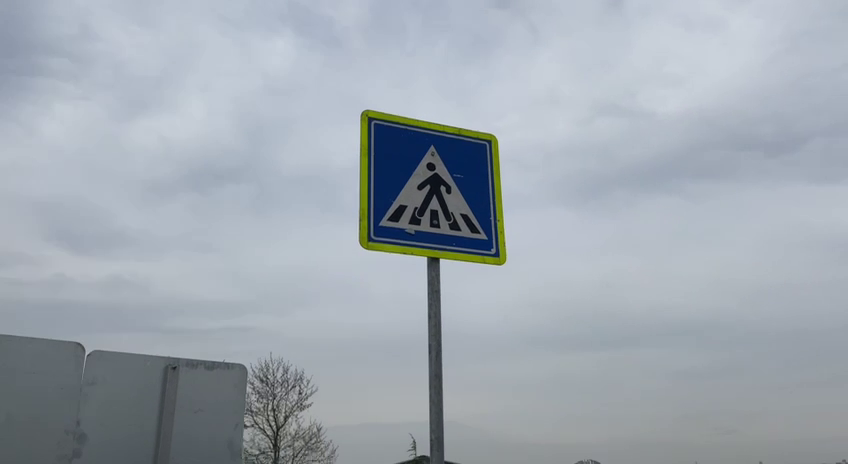pedestrianCrossing: (356, 106, 510, 269)
